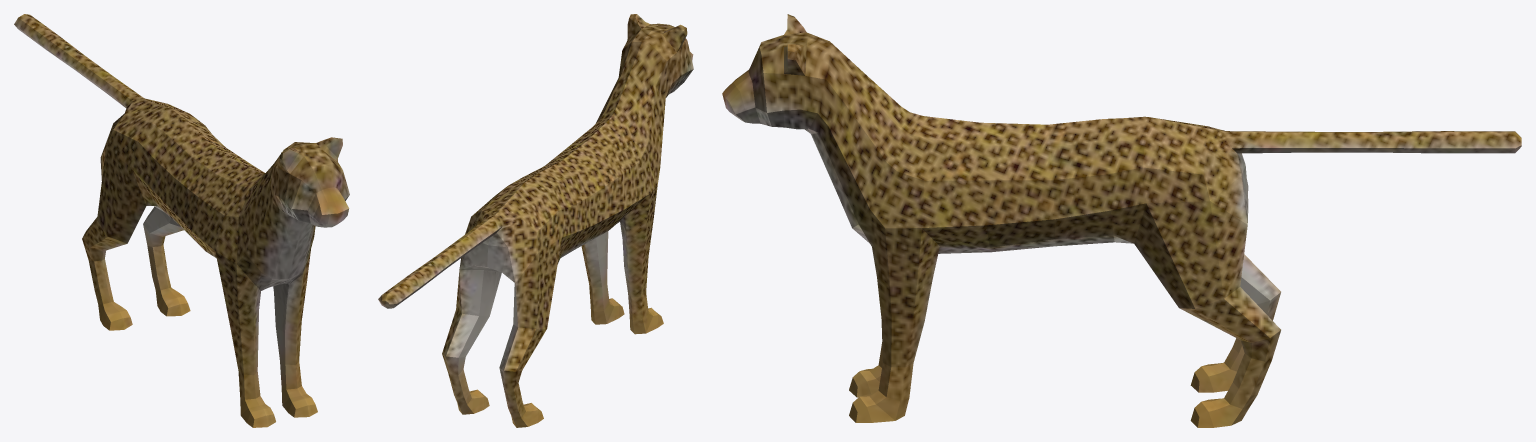
The model's file is animals-cougar-039.glb.
The picture shows the model from 3 angles, left to right: view 1: azimuth 30°, elevation 25°; view 2: azimuth 150°, elevation 25°; view 3: azimuth 270°, elevation 25°; orthographic projection. The views are drawn at different scales.
Visible parts, largest first — view 1: Leopard_mesh; view 2: Leopard_mesh; view 3: Leopard_mesh.
Boxes of the visible parts, x1=… form: Leopard_mesh: x1=14, y1=14, x2=349, y2=427; Leopard_mesh: x1=378, y1=14, x2=693, y2=427; Leopard_mesh: x1=722, y1=14, x2=1521, y2=427.
Bounding box in the file's own units: 2.21 × 7.08 × 13.75.
Materials: 1 (1 with a texture image).
